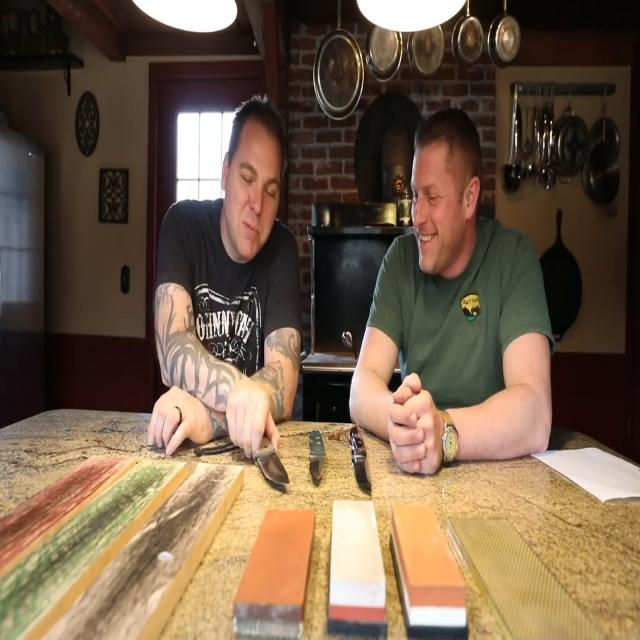knife: (346, 418, 374, 499), (258, 440, 292, 496), (308, 426, 328, 490)
